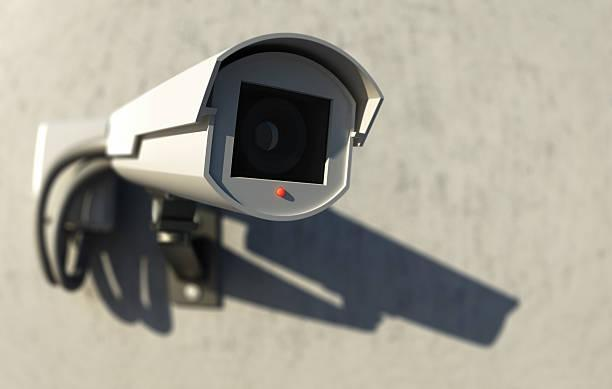camera: (75, 8, 417, 254)
